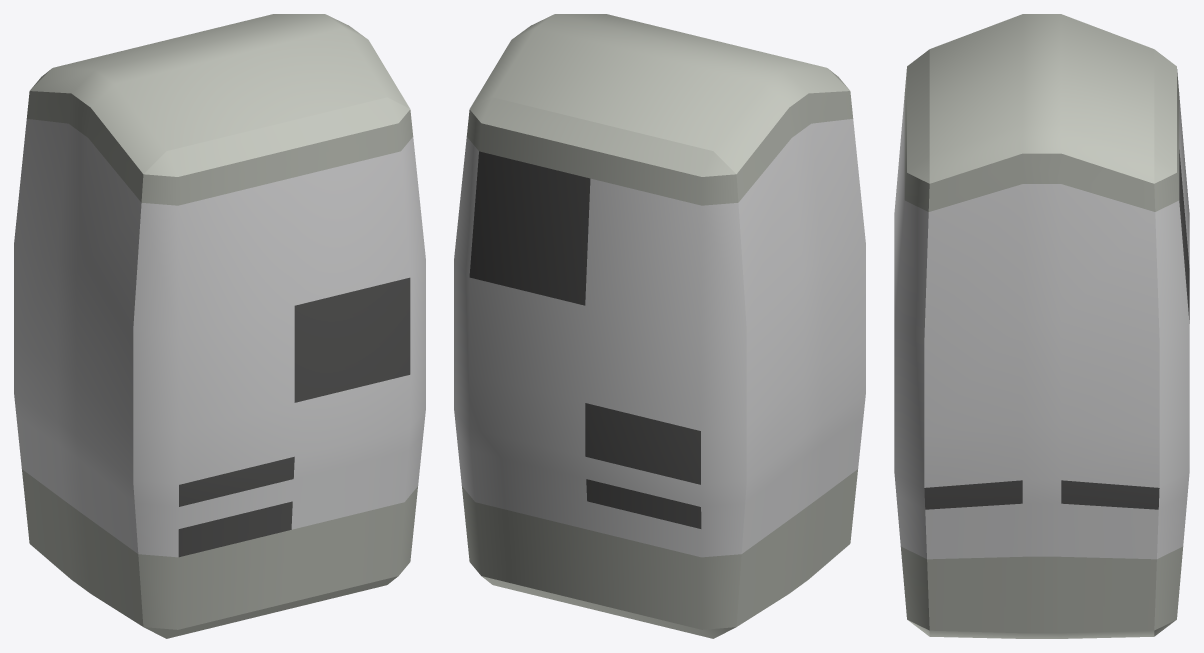
Rendered from Flour.glb.
3 views of the same model, side by side, from view 1: azimuth 30°, elevation 25°; view 2: azimuth 150°, elevation 25°; view 3: azimuth 270°, elevation 25° (orthographic).
Visible parts, largest first — view 1: Flour; view 2: Flour; view 3: Flour.
Boxes of the visible parts, x1,y1,x2,y2 form: Flour: (14,14,425,638); Flour: (454,14,865,638); Flour: (894,14,1189,638).
Bounding box in the file's own units: 0.1397 × 0.2268 × 0.1179.
1 material, 1 textured.
